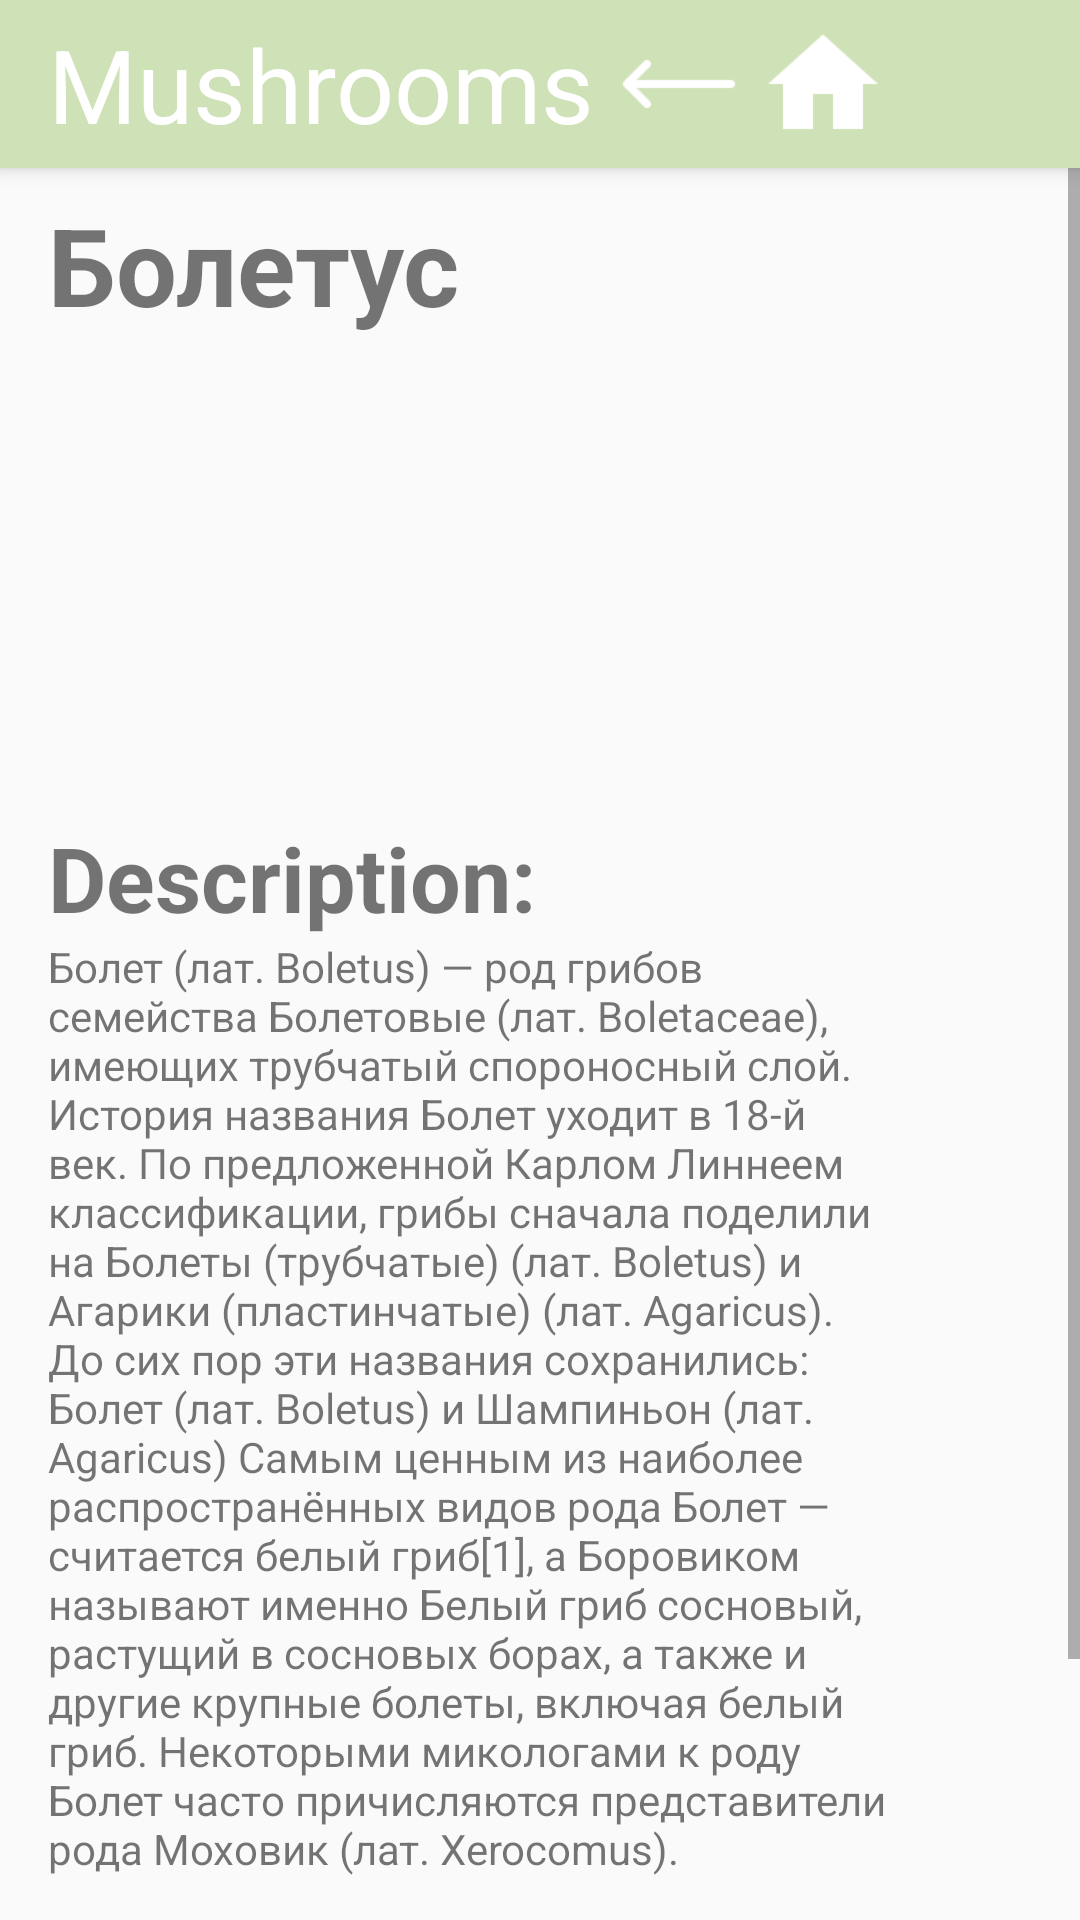

Point at icon controls on the screen. Image size 1080px×1920px, points as (x=x, y=y).
home: (x=823, y=82)
long arrow left: (x=679, y=84)
